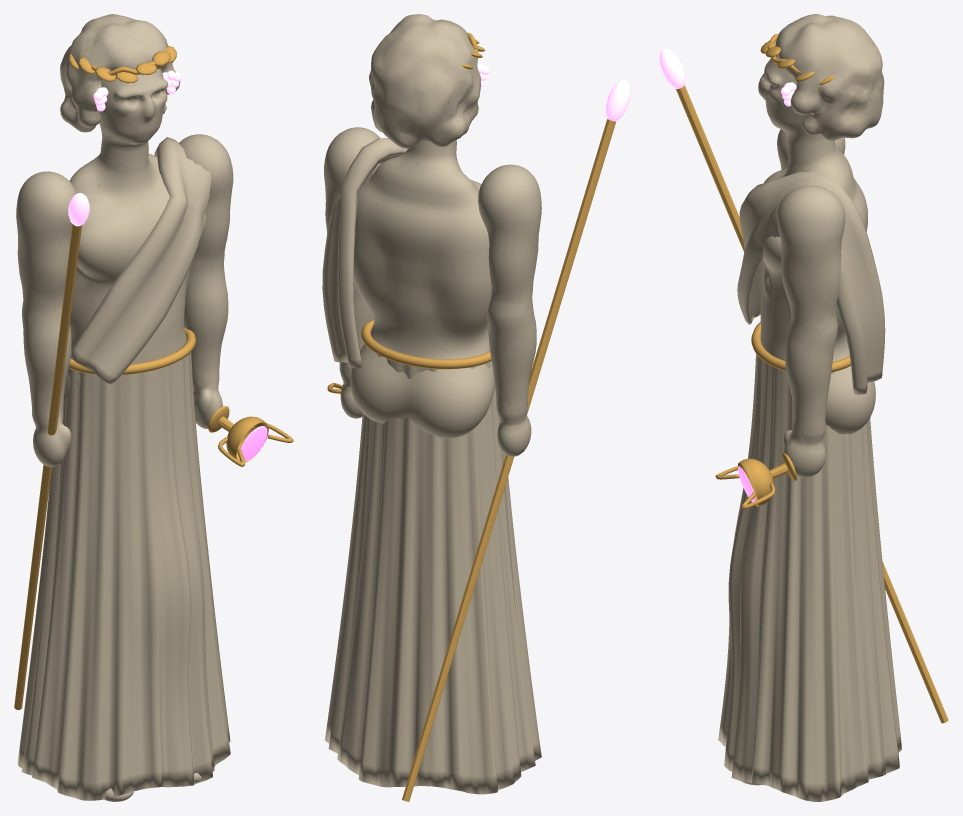
Rendered from dionysus.glb.
The picture shows the model from 3 angles, left to right: view 1: azimuth 30°, elevation 25°; view 2: azimuth 150°, elevation 25°; view 3: azimuth 270°, elevation 25°; orthographic projection.
Parts seen in each view (by area): view 1: Chiton_32@robe~2, Body_1@body, Nebris_34@chest~3, ArmR_3@armR, ArmL_2@armL, Hair_4@Head, Thyrsus_41@RightHand, Sash_33@Hips, Tool_35@LeftHand, Wine_36@LeftHand, Cone_42@RightHand; view 2: Chiton_32@robe~2, Body_1@body, ArmR_3@armR, Hair_4@Head, Nebris_34@chest~3, Thyrsus_41@RightHand, ArmL_2@armL, Sash_33@Hips, Cone_42@RightHand; view 3: Chiton_32@robe~2, ArmL_2@armL, Nebris_34@chest~3, Body_1@body, Hair_4@Head, Thyrsus_41@RightHand, Tool_35@LeftHand, Sash_33@Hips, Cone_42@RightHand.
Boxes of the visible parts, bbox=[...] form: Chiton_32@robe~2: bbox=[17, 352, 230, 800]; Body_1@body: bbox=[63, 68, 206, 801]; Nebris_34@chest~3: bbox=[69, 137, 211, 384]; ArmR_3@armR: bbox=[16, 171, 77, 467]; ArmL_2@armL: bbox=[179, 134, 233, 428]; Hair_4@Head: bbox=[60, 14, 180, 132]; Thyrsus_41@RightHand: bbox=[14, 224, 81, 709]; Sash_33@Hips: bbox=[68, 327, 195, 374]; Tool_35@LeftHand: bbox=[226, 416, 268, 462]; Wine_36@LeftHand: bbox=[240, 426, 267, 461]; Cone_42@RightHand: bbox=[68, 193, 89, 226]; Chiton_32@robe~2: bbox=[325, 354, 541, 794]; Body_1@body: bbox=[350, 140, 495, 438]; ArmR_3@armR: bbox=[478, 164, 541, 456]; Hair_4@Head: bbox=[369, 14, 480, 148]; Nebris_34@chest~3: bbox=[322, 138, 407, 368]; Thyrsus_41@RightHand: bbox=[402, 119, 616, 801]; ArmL_2@armL: bbox=[324, 127, 380, 418]; Sash_33@Hips: bbox=[361, 320, 491, 369]; Cone_42@RightHand: bbox=[606, 79, 630, 121]; Chiton_32@robe~2: bbox=[718, 354, 901, 801]; ArmL_2@armL: bbox=[777, 185, 845, 477]; Nebris_34@chest~3: bbox=[737, 171, 885, 394]; Body_1@body: bbox=[741, 55, 875, 785]; Hair_4@Head: bbox=[775, 14, 884, 140]; Thyrsus_41@RightHand: bbox=[676, 85, 948, 723]; Tool_35@LeftHand: bbox=[738, 458, 773, 506]; Sash_33@Hips: bbox=[751, 322, 850, 372]; Cone_42@RightHand: bbox=[659, 48, 685, 88].
Bounding box in the file's own units: 0.6647 × 1.82 × 0.6424.
